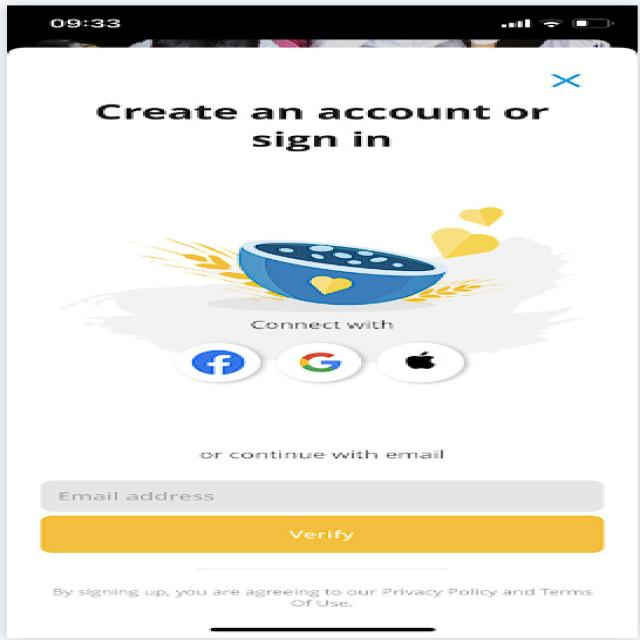button: (30, 514, 621, 560)
icon button: (370, 332, 492, 394), (270, 336, 376, 394), (156, 338, 270, 390), (534, 63, 607, 99)
image: (100, 202, 554, 324)
input: (24, 466, 626, 516)
text: (83, 91, 579, 159), (39, 581, 628, 614)
